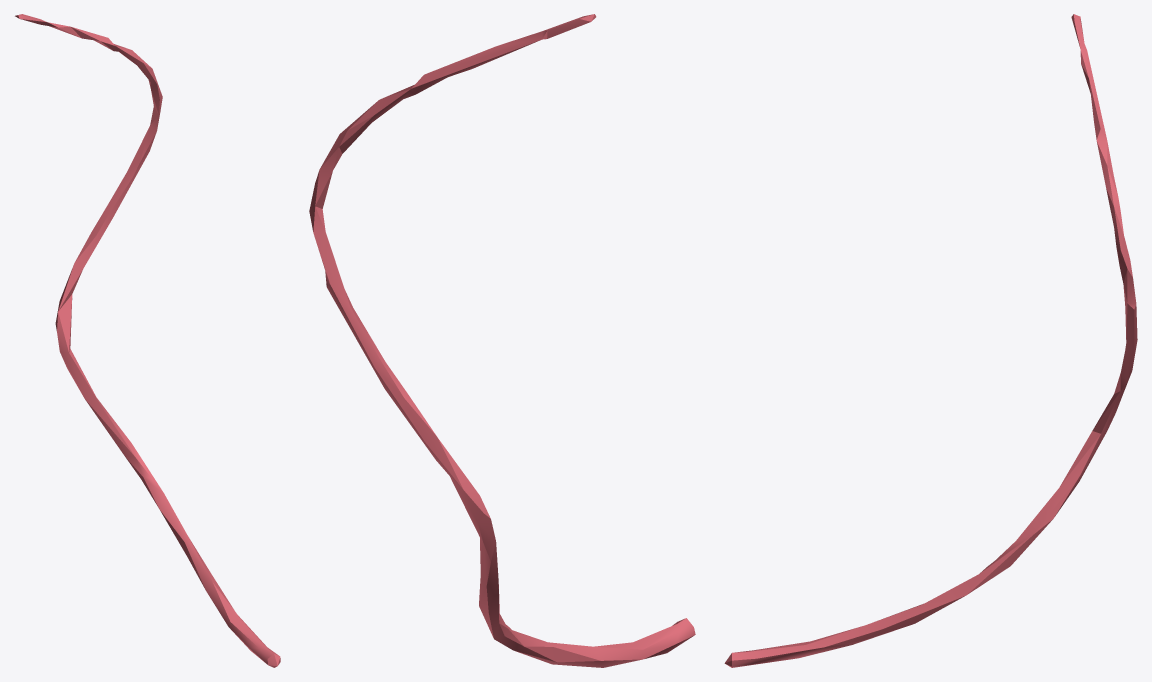
The model's file is fma50520_fj1703m.glb.
3 views of the same model, side by side, from view 1: azimuth 30°, elevation 25°; view 2: azimuth 150°, elevation 25°; view 3: azimuth 270°, elevation 25° (orthographic). The views are drawn at different scales.
Visible parts, largest first — view 1: FMA50520_FJ1703M; view 2: FMA50520_FJ1703M; view 3: FMA50520_FJ1703M.
Boxes of the visible parts, bbox=[...] form: FMA50520_FJ1703M: bbox=[15, 14, 280, 667]; FMA50520_FJ1703M: bbox=[309, 14, 695, 667]; FMA50520_FJ1703M: bbox=[724, 14, 1137, 667].
Size of the model in its own units: 0.00623 by 0.0199 by 0.0123.
